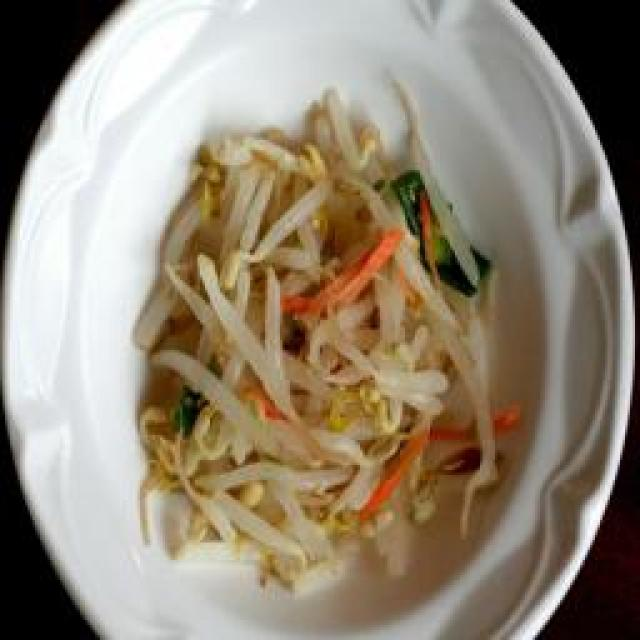Wet Waste: (135, 100, 495, 578)
